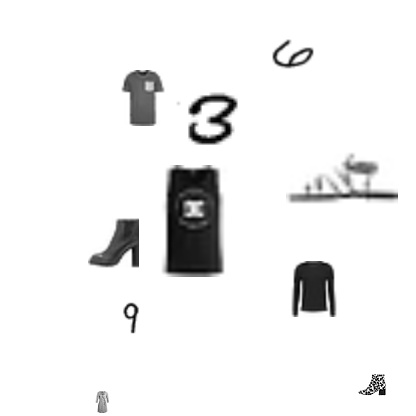3: (168, 75, 252, 159)
6: (263, 28, 319, 84)
9: (110, 294, 152, 336)
Ankle_boot: (88, 215, 144, 271), (358, 371, 386, 399)
Dress: (91, 391, 113, 413)
Pullover: (286, 261, 342, 317)
Sandal: (286, 122, 398, 234)
T-shirt/top: (139, 165, 251, 277), (114, 70, 170, 126)
